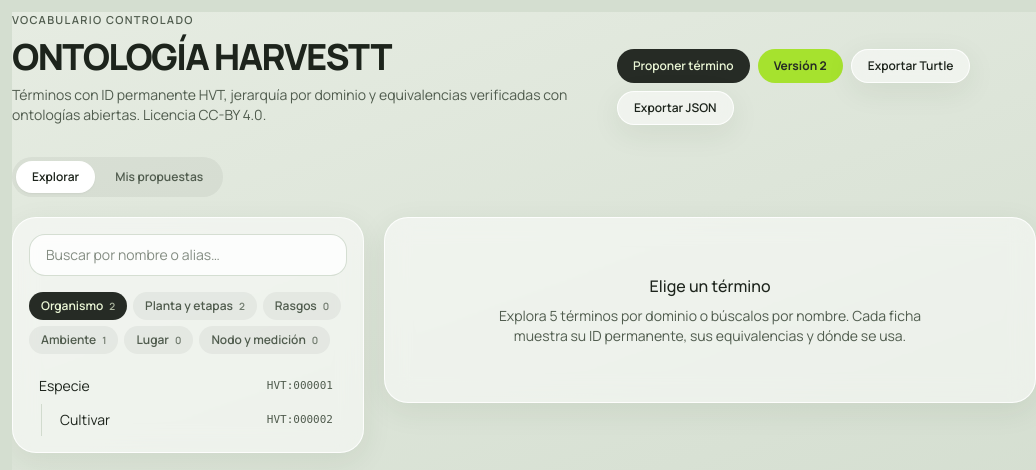
Explorar no mezcla propuestas ni rechazados en el árbol, los conteos ni la búsqueda
Expected: the button "Especie HVT:000001" is shown, [29, 370, 343, 402]
Expected: the text "fantasma" is not shown
Type "fantasma" into the search field at (188, 254), box [29, 234, 347, 276]
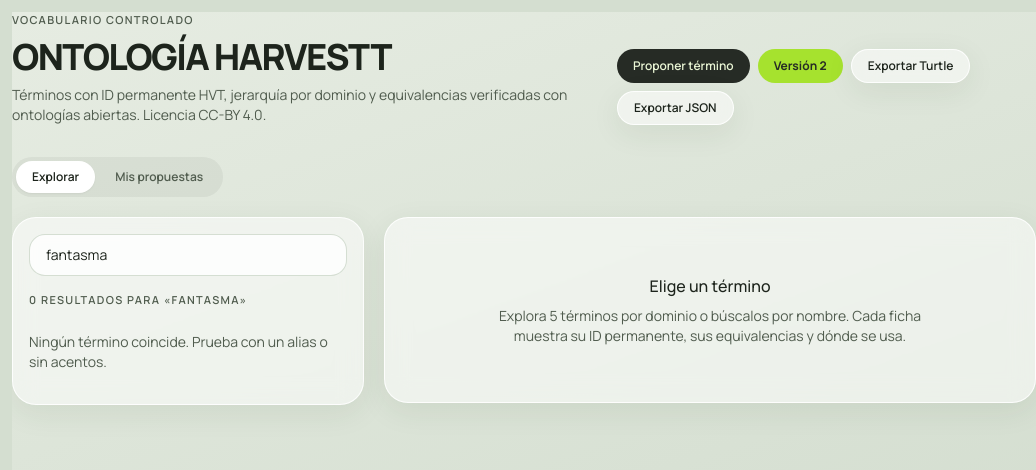
Result: the text "Ningún término coincide. Prueba con un alias o sin acentos." is shown at [29, 332, 328, 371]
